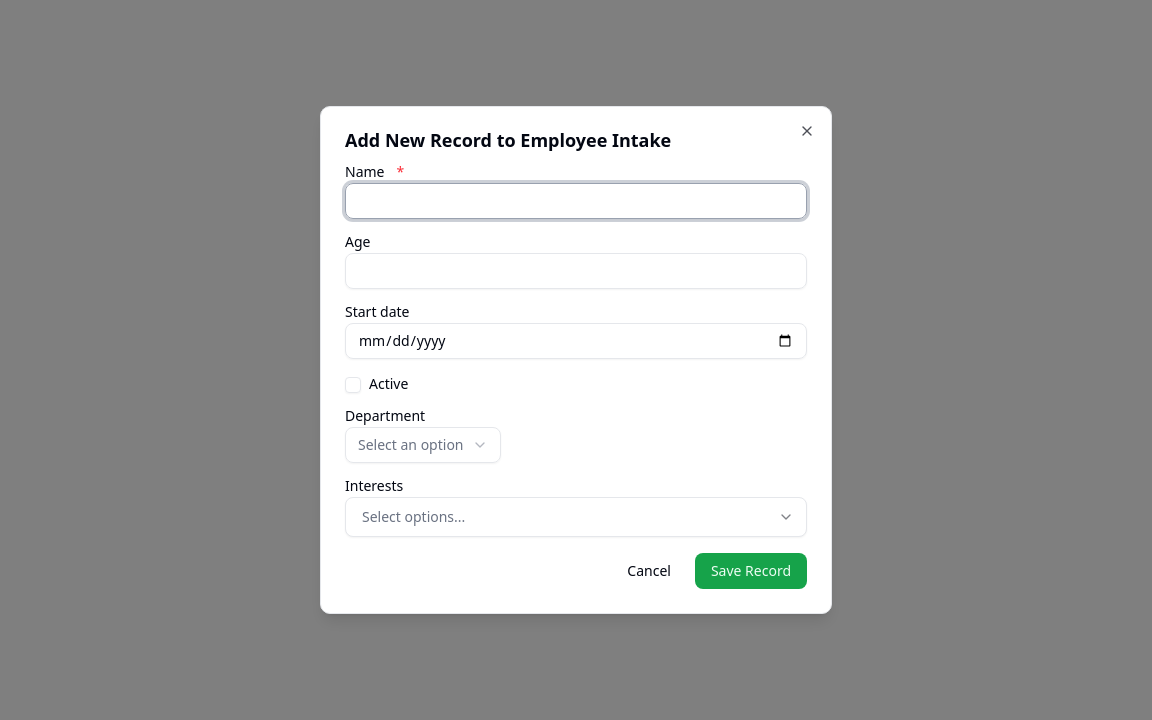
Test: AddOrUpdateRecordDialog › keeps an add dialog available after a failed save
Type "Ada Lovelace" into the field labelled "Name *".
click(576, 201); type("Ada Lovelace")  # box x1=345 y1=183 x2=807 y2=219
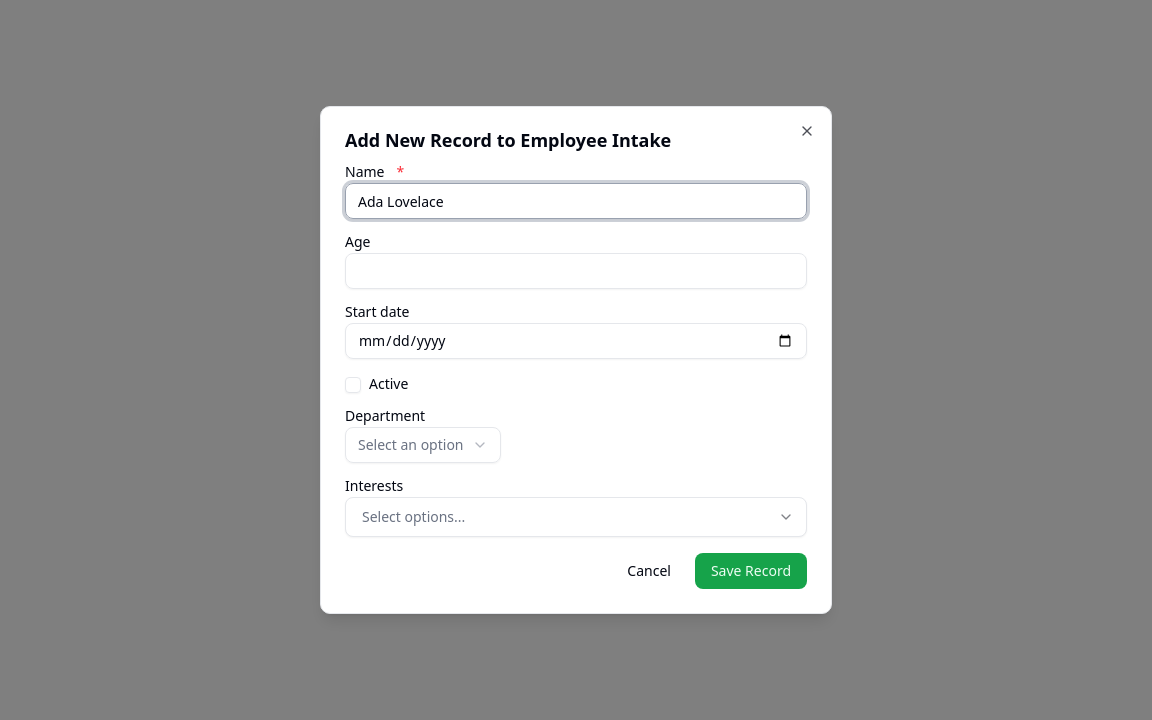
Click the button "Save Record".
click(751, 571)  # box x1=695 y1=553 x2=807 y2=589
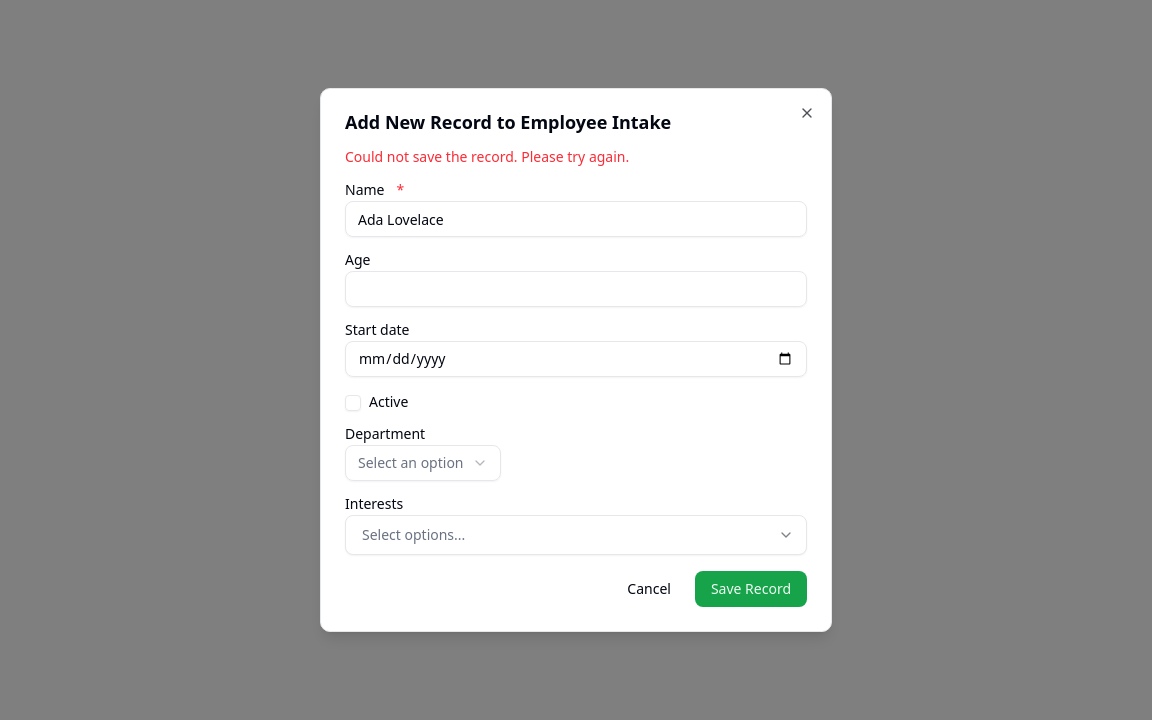
Expected: the dialog is shown, x1=320 y1=88 x2=832 y2=632
Result: the message "Could not save the record. Please try again." is shown at x1=345 y1=147 x2=629 y2=166
